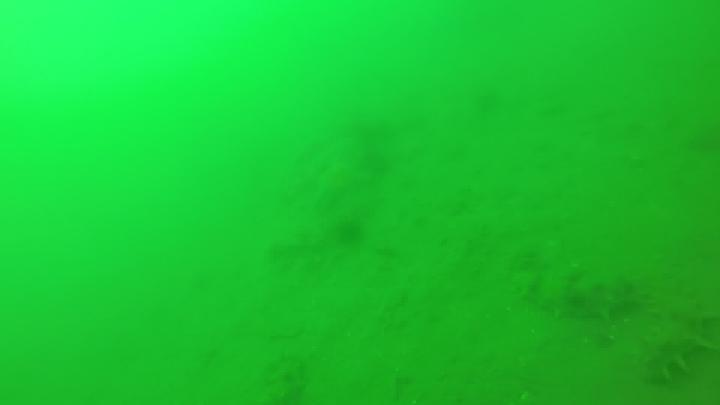holothurian: (641, 264, 705, 378), (515, 270, 643, 317), (259, 353, 312, 405)
